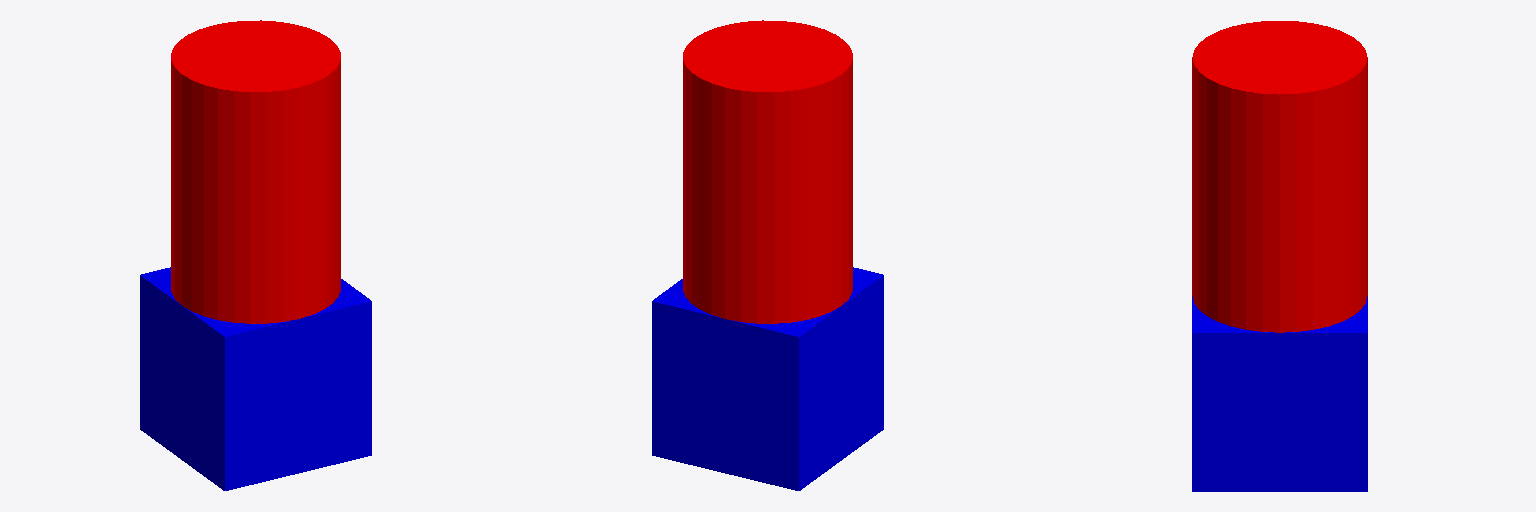
The robot description file, URDF, robot "minimal_robot":
<?xml version="1.0"?>
<robot name="minimal_robot">
  <link name="base_link">
    <visual>
      <geometry>
        <box size="0.1 0.1 0.1"/>
      </geometry>
      <material name="blue">
        <color rgba="0 0 1 1"/>
      </material>
    </visual>
  </link>
  <joint name="joint1" type="revolute">
    <parent link="base_link"/>
    <child link="link1"/>
    <origin xyz="0 0 0.1"/>
    <axis xyz="0 0 1"/>
    <limit lower="-3.14" upper="3.14" effort="10" velocity="1"/>
  </joint>
  <link name="link1">
    <visual>
      <geometry>
        <cylinder radius="0.05" length="0.2"/>
      </geometry>
      <material name="red">
        <color rgba="1 0 0 1"/>
      </material>
    </visual>
  </link>
</robot>

--- Render facts (derived) ---
3 views of the same robot in one strip: view 1: azimuth 30°, elevation 25°; view 2: azimuth 150°, elevation 25°; view 3: azimuth 270°, elevation 25° (orthographic).
Robot: minimal_robot — 2 links, 1 joints (1 revolute); root link base_link; default pose: every joint at zero.
Links seen in each view (by area): view 1: link1, base_link; view 2: link1, base_link; view 3: link1, base_link.
Link boxes in pixels (x1,y1,x2,y2): link1: (171,20,340,323); base_link: (140,267,371,490); link1: (683,20,852,323); base_link: (652,267,883,490); link1: (1192,21,1367,332); base_link: (1192,296,1367,491).
Bounding box of the posed robot: 0.1 × 0.1 × 0.25 m (x, y, z).
Geometry: primitives only (box / cylinder / sphere), no mesh files.